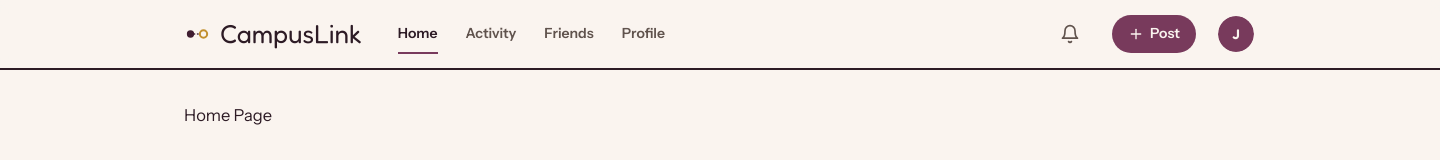
Test: navigation targets › clicking Delivering in the desktop Activity dropdown navigates to the Delivering route
Click the button "Activity" at (491, 34), box [465, 15, 516, 53]
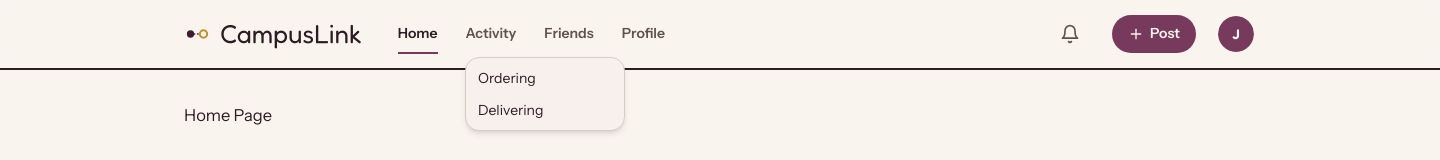
Click the menu item "Delivering" at (511, 110), box [478, 101, 543, 119]
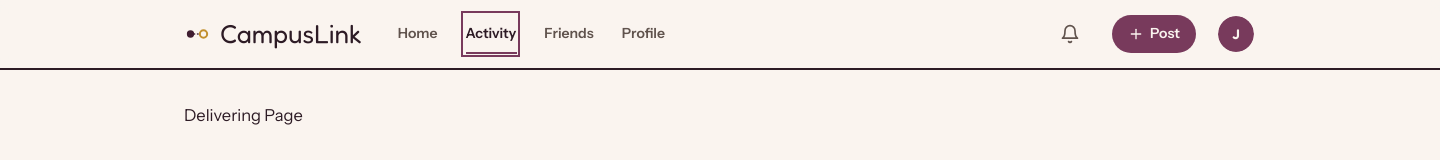
Expected: the text "Delivering Page" is shown, [184, 105, 303, 125]
